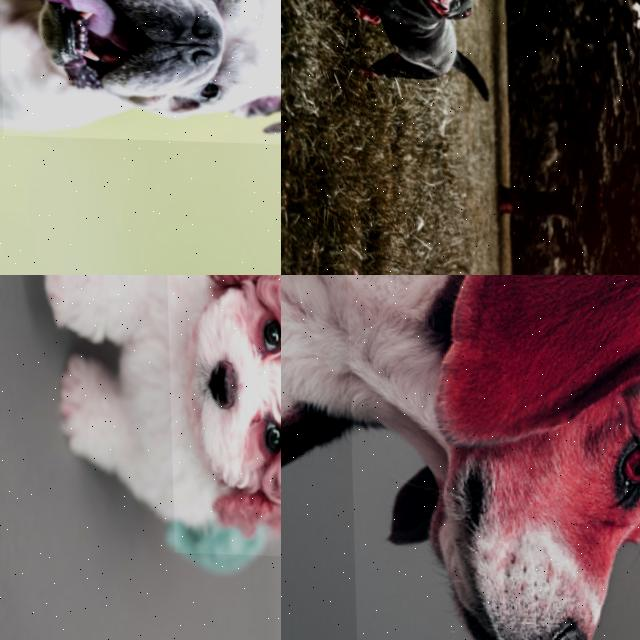beagle: (339, 275, 640, 640)
bulldog: (0, 0, 281, 146)
poodle: (163, 275, 281, 559)
rottweiler: (414, 0, 486, 25)
